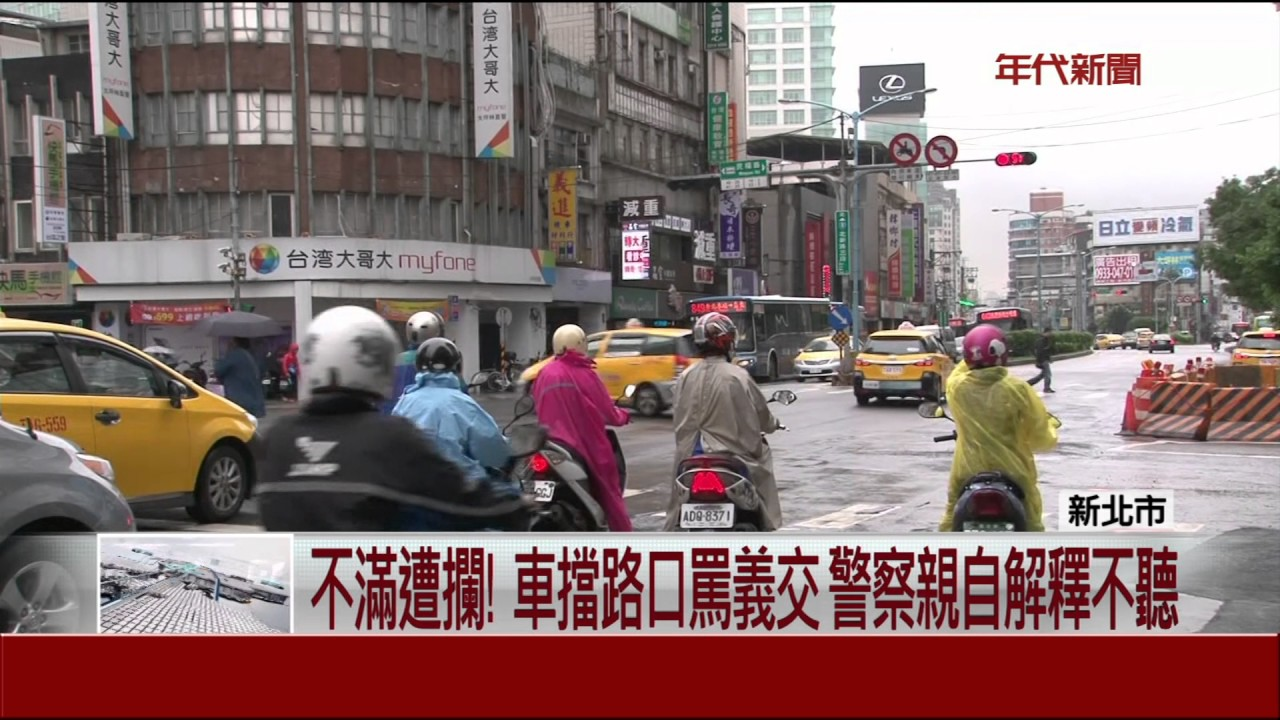No_left_turn: (924, 134, 957, 166)
Traffic_light_red: (994, 151, 1036, 167)
